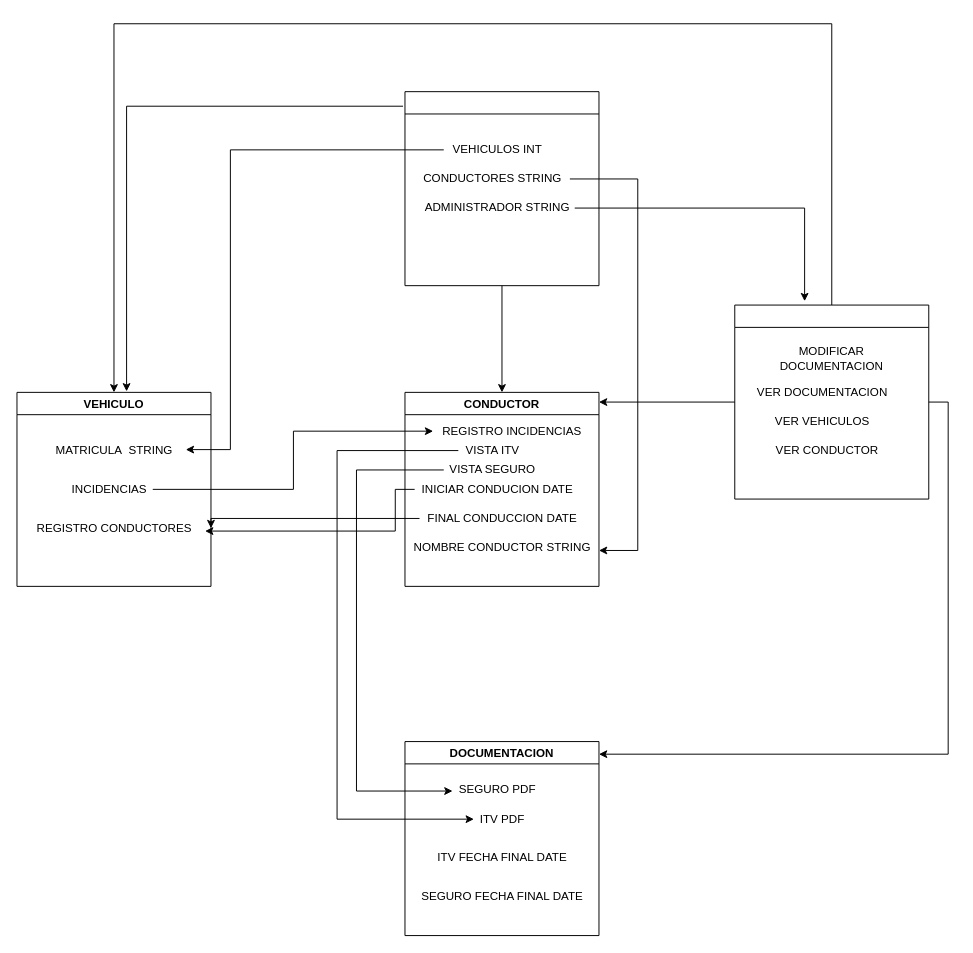
The diagram is 973 pixels wide and 953 high, and some of its shapes have lost their labels. Here are the shapes that lost their labels. From the top down, the box of each, then its label:
(404, 91, 599, 286): EMPRESA
(734, 304, 929, 499): ADMINISTRADOR
